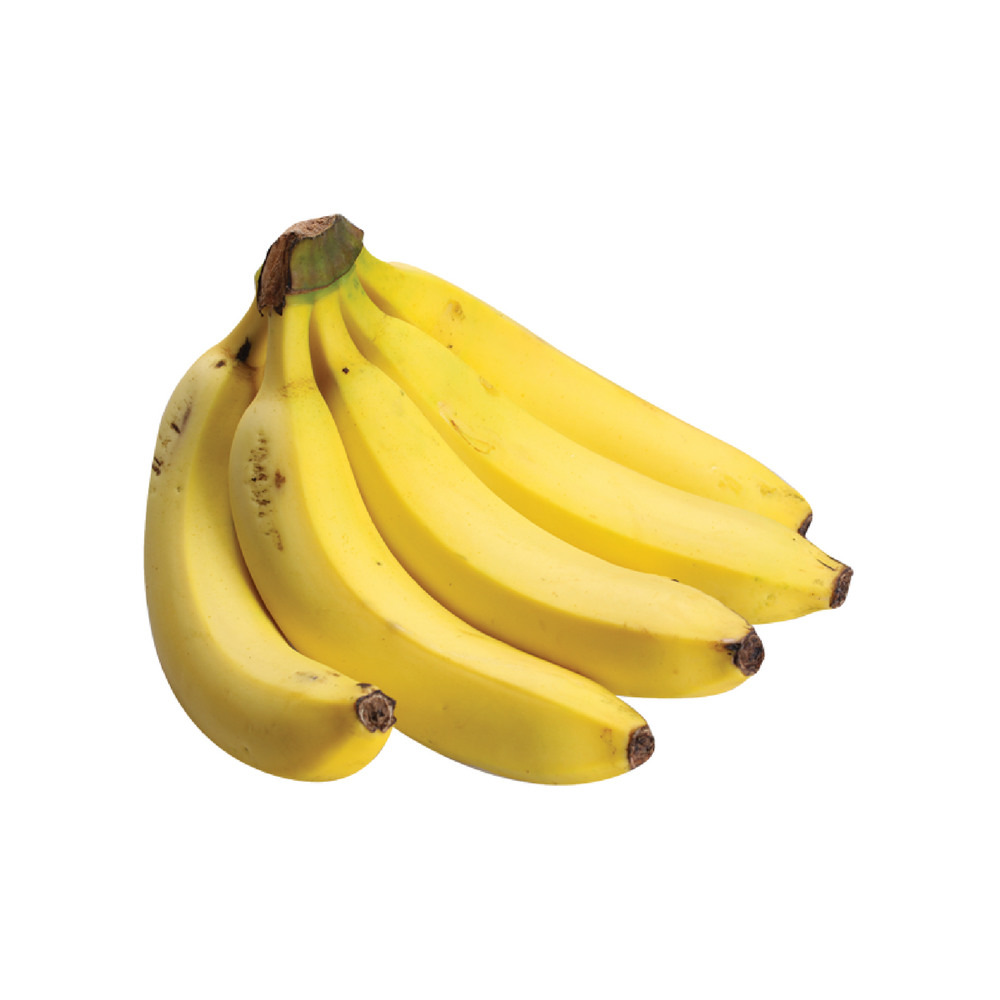banana: (153, 244, 844, 782)
